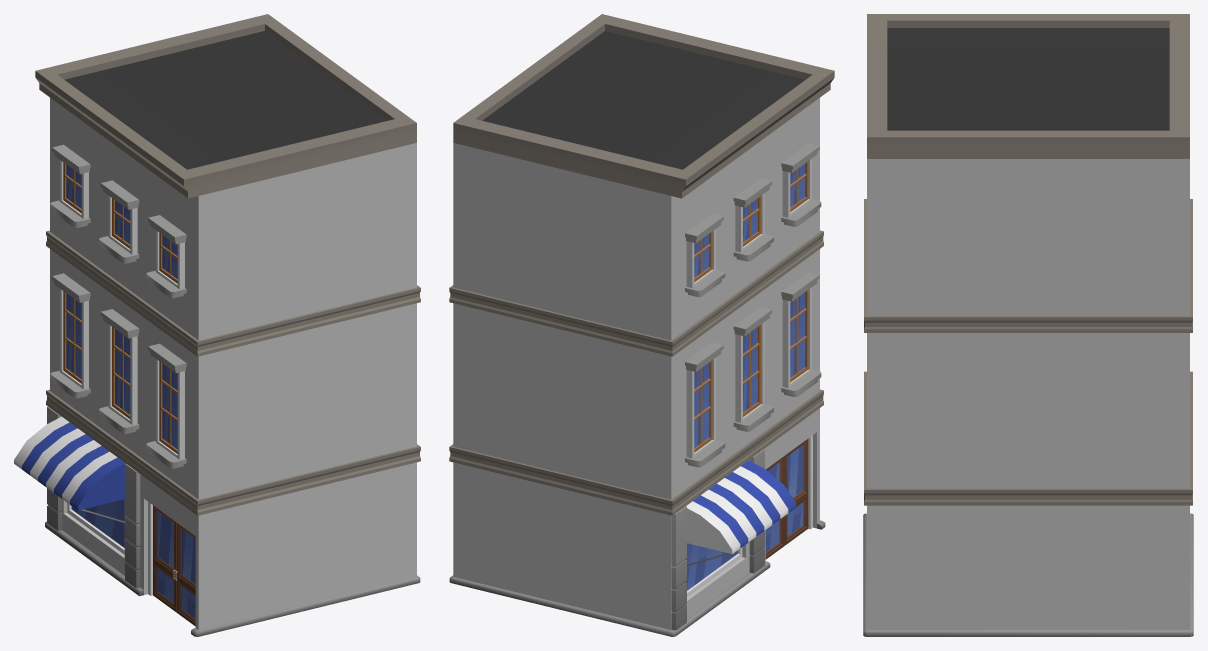
File: Building_8_1_X.fbx
The picture shows the model from 3 angles, left to right: view 1: azimuth 30°, elevation 25°; view 2: azimuth 150°, elevation 25°; view 3: azimuth 270°, elevation 25°; orthographic projection. The views are drawn at different scales.
Parts seen in each view (by area): view 1: Building 8_1_X; view 2: Building 8_1_X; view 3: Building 8_1_X.
Boxes of the visible parts, box(x1,y1,x2,y2) form: Building 8_1_X: box(14, 14, 420, 636); Building 8_1_X: box(449, 14, 834, 636); Building 8_1_X: box(863, 14, 1193, 636).
Size of the model in its own units: 681 by 1108 by 667.
